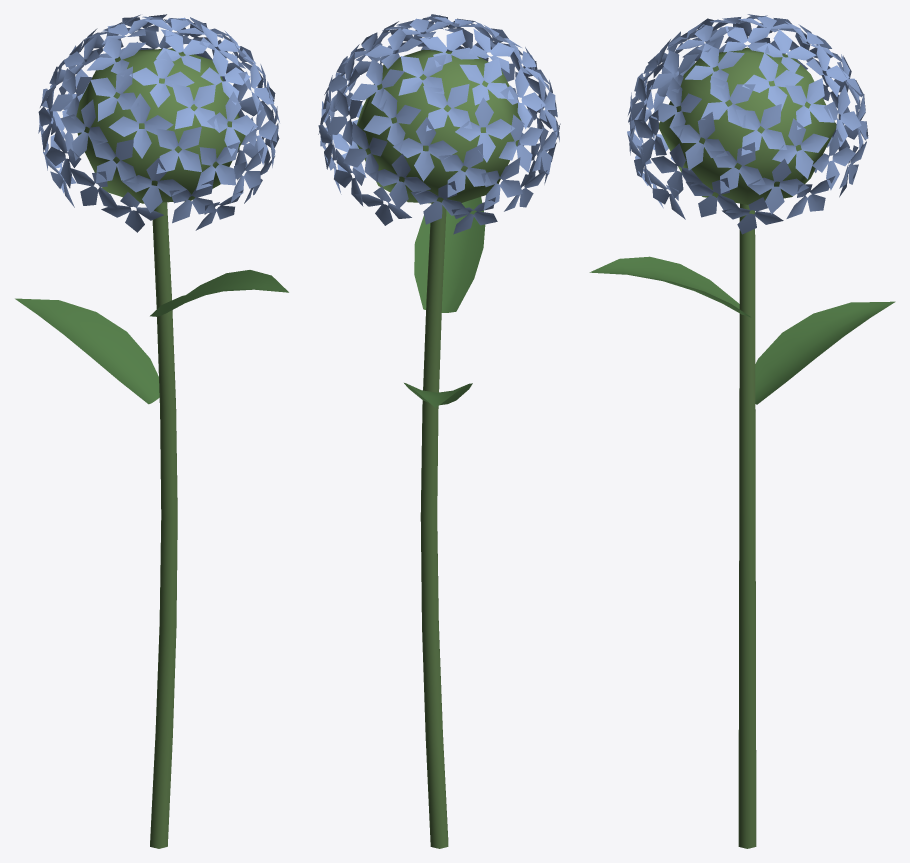
File: hydrangea.glb
The picture shows the model from 3 angles, left to right: view 1: azimuth 30°, elevation 25°; view 2: azimuth 150°, elevation 25°; view 3: azimuth 270°, elevation 25°; orthographic projection.
Visible parts, largest first — view 1: hydrangea; view 2: hydrangea; view 3: hydrangea.
Part boxes in pixels (x1,y1,x2,y2): hydrangea: (15,14,288,848); hydrangea: (318,14,560,848); hydrangea: (589,14,895,848).
Bounding box in the file's own units: 0.0984 × 0.3703 × 0.1258.
